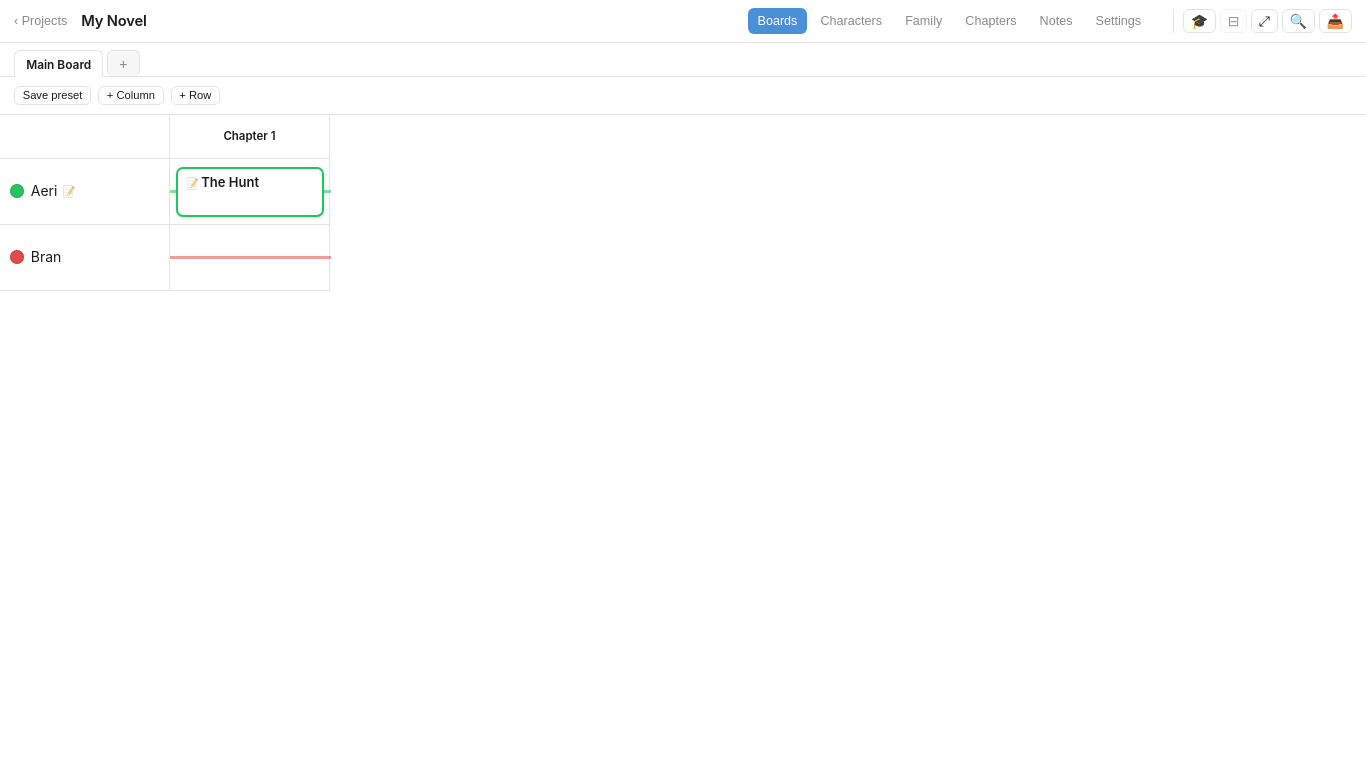
it: the board’s note side panel › opens a card’s note beside the board, not over it
Expected: the heading "My Novel" is shown, [81, 12, 147, 30]
Click the text "The Hunt" at {"x": 222, "y": 182}, box [186, 174, 259, 190]
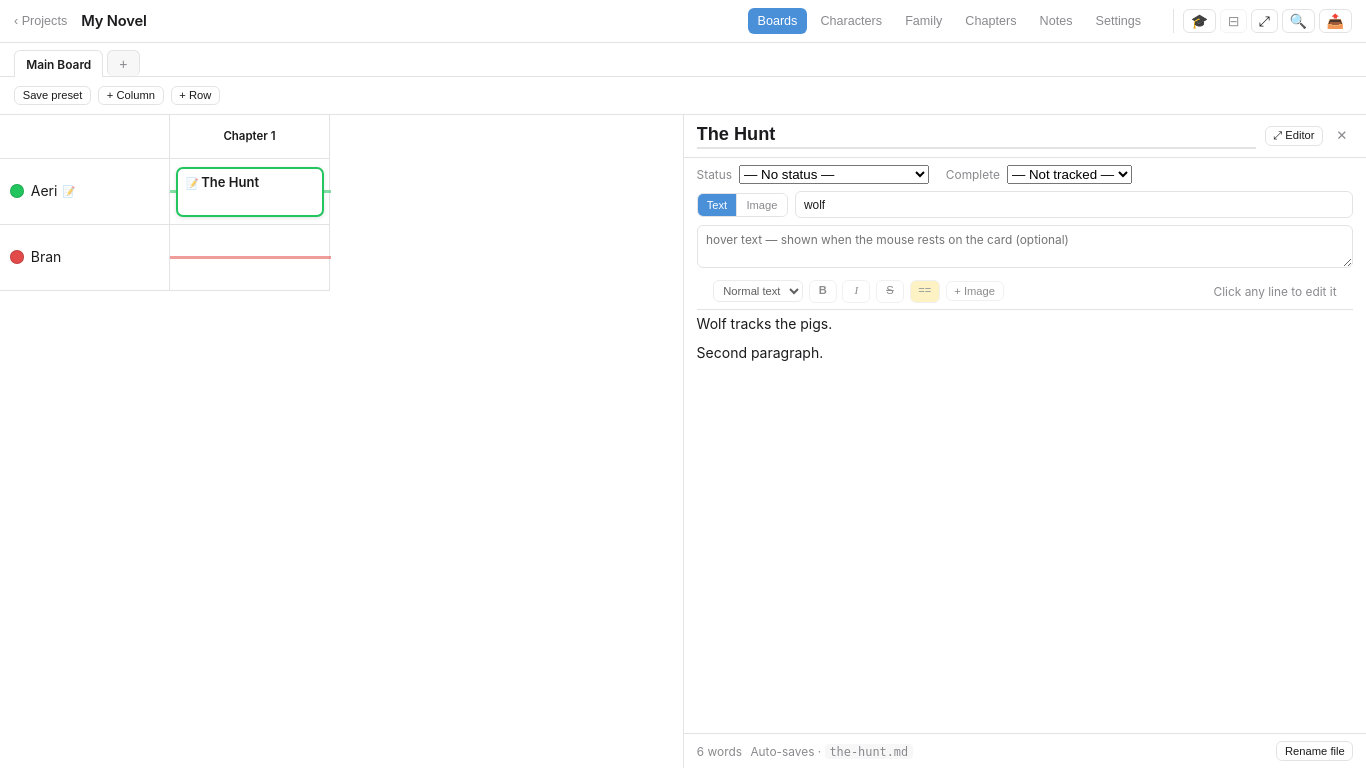
Expected: the element with class "board-grid" is shown, [0, 114, 331, 290]
Expected: the element named "Note" is shown, [683, 114, 1365, 767]
Expected: the text "Wolf tracks the pigs." is shown, [697, 315, 832, 332]
